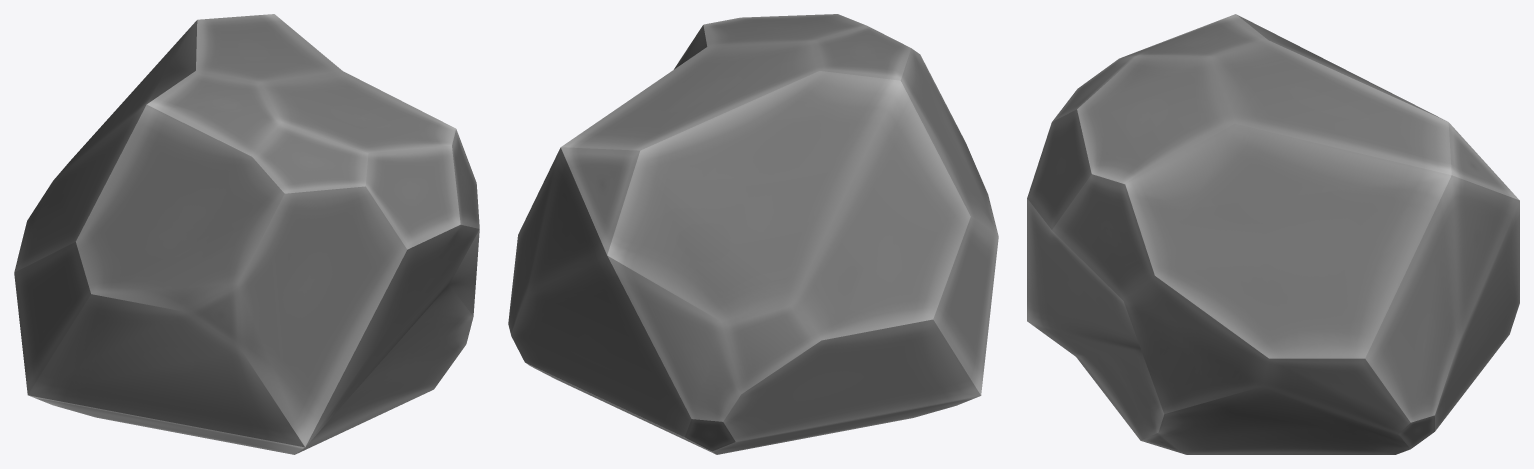
File: Rock00.fbx
3 renders of one model, left to right at view 1: azimuth 30°, elevation 25°; view 2: azimuth 150°, elevation 25°; view 3: azimuth 270°, elevation 25°, orthographic.
Visible parts, largest first — view 1: Rock00_LOD0; view 2: Rock00_LOD0; view 3: Rock00_LOD0.
Boxes of the visible parts, bbox=[...] form: Rock00_LOD0: bbox=[14, 14, 479, 454]; Rock00_LOD0: bbox=[508, 14, 998, 454]; Rock00_LOD0: bbox=[1027, 14, 1519, 454].
Size of what is drawn, in the model's own units: 121 by 85.93 by 122.
1 material, 1 textured.
